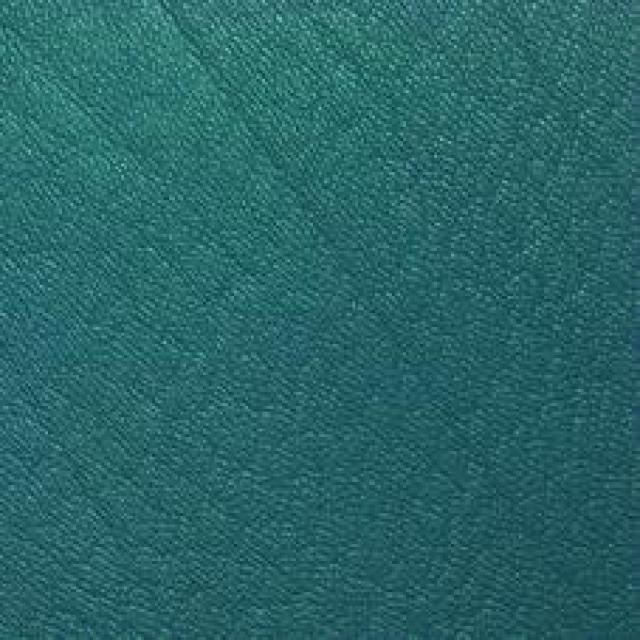Growth Marks: (184, 28, 327, 226), (329, 235, 462, 417)
